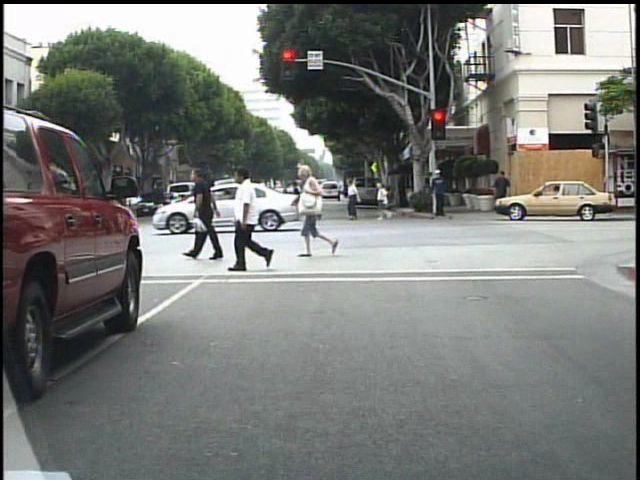person: (221, 166, 289, 280), (296, 166, 348, 260), (188, 163, 233, 265), (426, 163, 447, 221), (302, 172, 323, 224), (285, 177, 306, 224), (152, 178, 169, 232), (347, 176, 366, 224), (118, 179, 137, 227), (4, 190, 22, 237), (493, 168, 511, 214), (8, 198, 25, 237)
